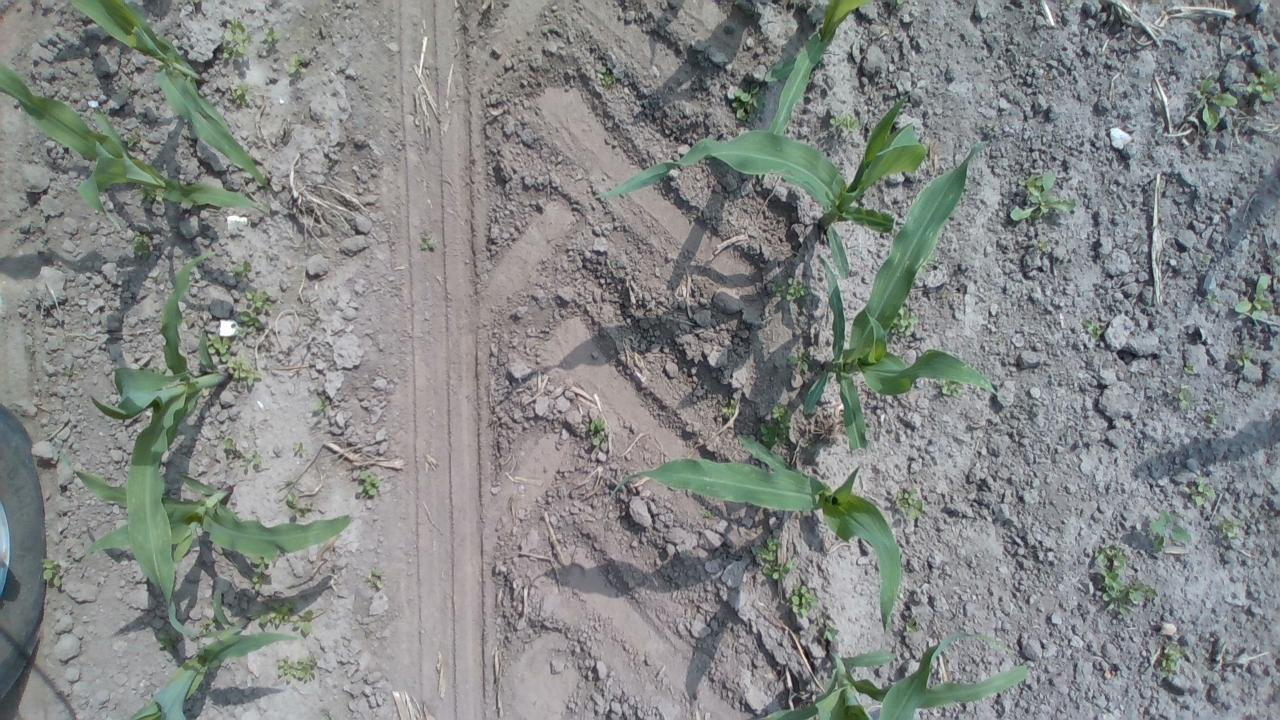Maize: (592, 89, 929, 276), (801, 141, 1000, 453), (604, 430, 903, 632), (89, 250, 229, 638), (0, 61, 271, 231), (68, 0, 275, 193), (56, 445, 352, 570), (126, 587, 300, 720), (739, 649, 1028, 720), (764, 0, 872, 139), (830, 634, 999, 720)
Weeds: (1094, 544, 1157, 616), (1009, 172, 1078, 221), (1194, 70, 1240, 134), (1148, 509, 1191, 552), (1234, 274, 1272, 320), (754, 536, 791, 580), (759, 401, 793, 447), (248, 598, 299, 626), (731, 82, 764, 124), (222, 15, 252, 58), (887, 304, 920, 341), (228, 353, 262, 388), (1247, 68, 1280, 102), (277, 654, 317, 682), (894, 486, 924, 520), (789, 586, 820, 618), (771, 276, 810, 300), (1158, 642, 1184, 678), (247, 554, 271, 590), (1188, 476, 1216, 506), (205, 332, 231, 362), (40, 556, 64, 588), (245, 288, 274, 314), (828, 112, 862, 134), (235, 310, 262, 336), (284, 491, 310, 518), (130, 232, 154, 260), (588, 416, 608, 449), (787, 348, 812, 374), (356, 469, 380, 496), (230, 82, 253, 106), (286, 52, 308, 77), (1217, 518, 1243, 539), (1082, 317, 1106, 339), (1176, 382, 1194, 410), (220, 437, 241, 460), (940, 378, 964, 398), (261, 24, 279, 50), (158, 631, 180, 652), (596, 66, 616, 89), (914, 256, 936, 276), (294, 610, 312, 634), (139, 185, 163, 202), (231, 260, 252, 278), (198, 617, 220, 634), (1234, 349, 1252, 368), (823, 622, 840, 642), (368, 567, 384, 588), (312, 394, 330, 412), (242, 450, 262, 466), (125, 129, 142, 147), (419, 234, 436, 251), (722, 398, 738, 415), (906, 618, 920, 634), (1182, 360, 1196, 375), (291, 441, 305, 454), (121, 84, 136, 96), (803, 440, 816, 452), (1205, 412, 1217, 425), (1037, 241, 1051, 252), (698, 508, 712, 518), (1205, 292, 1217, 303), (986, 120, 998, 130), (896, 0, 914, 6), (283, 481, 294, 488), (63, 369, 72, 377), (323, 162, 332, 168), (320, 715, 328, 720), (192, 0, 202, 3)
